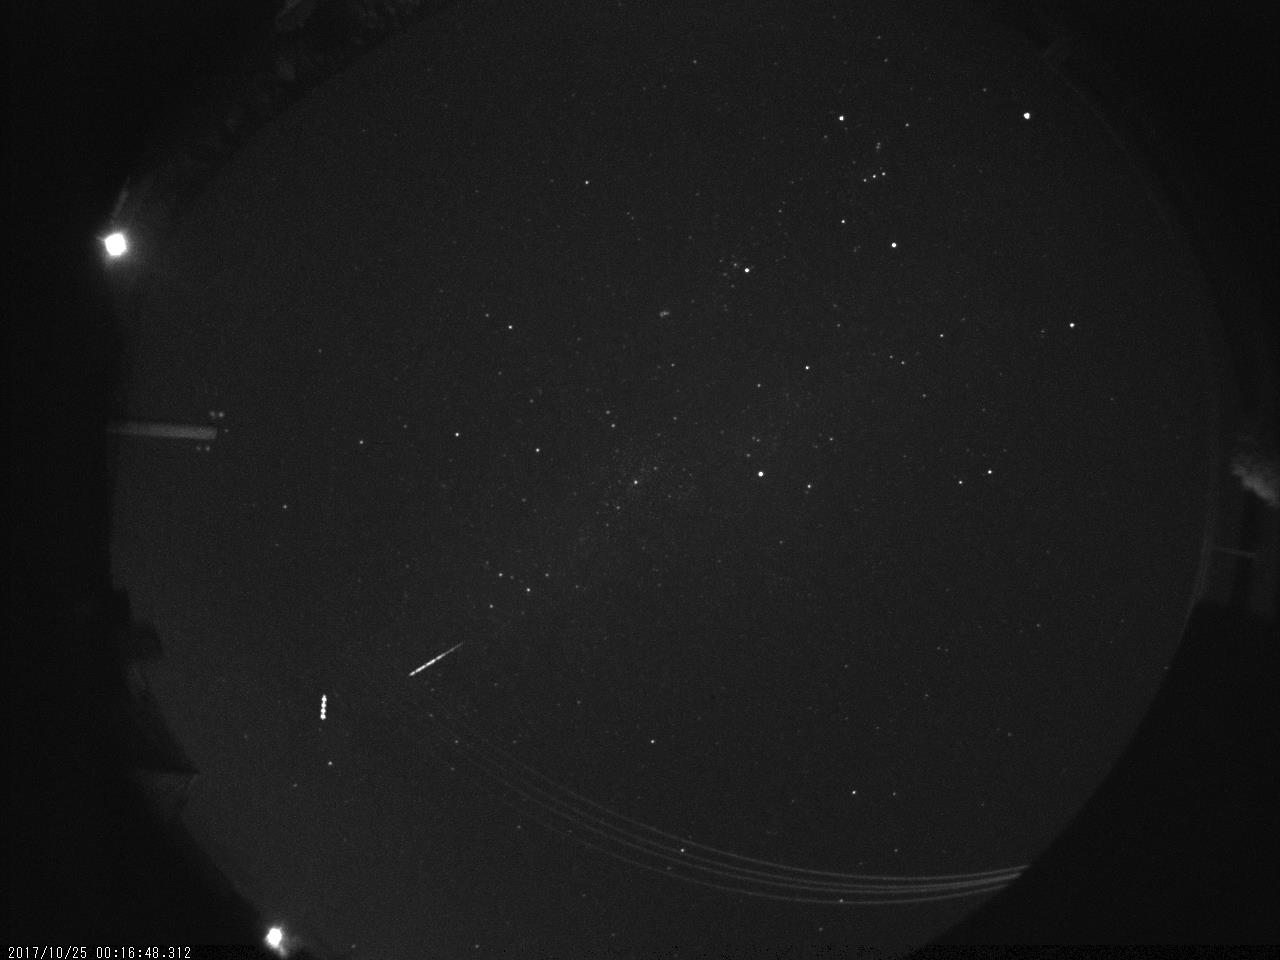meteor: (399, 625, 474, 686)
satelite: (307, 684, 337, 727)
